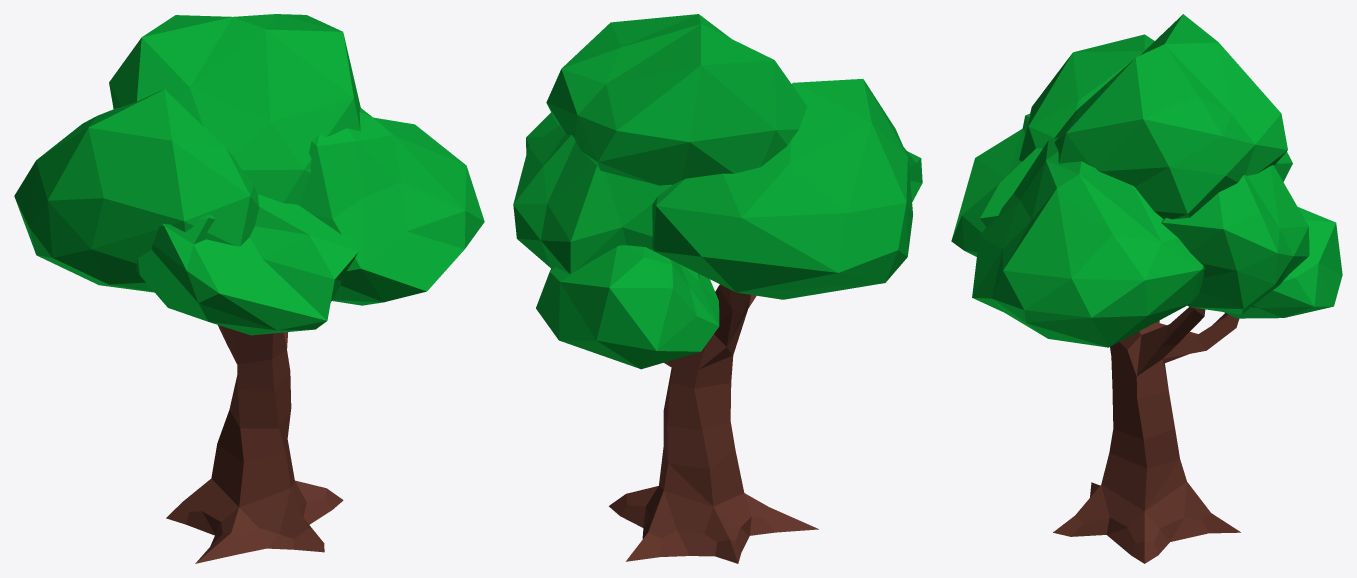
Rendered from TreeA_01.fbx.
3 views of the same model, side by side, from view 1: azimuth 30°, elevation 25°; view 2: azimuth 150°, elevation 25°; view 3: azimuth 270°, elevation 25° (orthographic). The views are drawn at different scales.
Parts seen in each view (by area): view 1: TreeA_01; view 2: TreeA_01; view 3: TreeA_01.
Part boxes in pixels (box(x1,y1,x2,y2)): TreeA_01: box(14, 14, 484, 563); TreeA_01: box(513, 14, 922, 563); TreeA_01: box(951, 14, 1342, 563).
Size of the model in its own units: 10.45 by 12.55 by 9.4.
